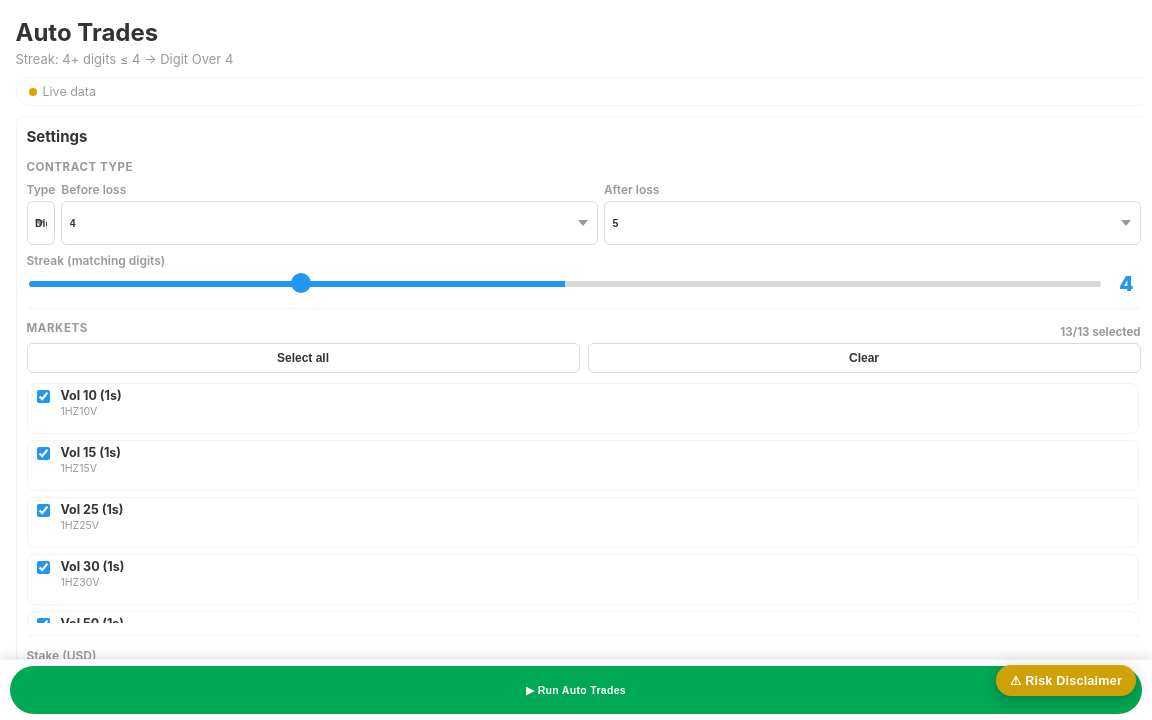
it: <AutoTrades /> › shows tick duration controls for Only Ups and Only Downs modes
Step 1. Select "Only Ups" in the 1st dropdown → x=41, y=223, box [26, 201, 55, 245]
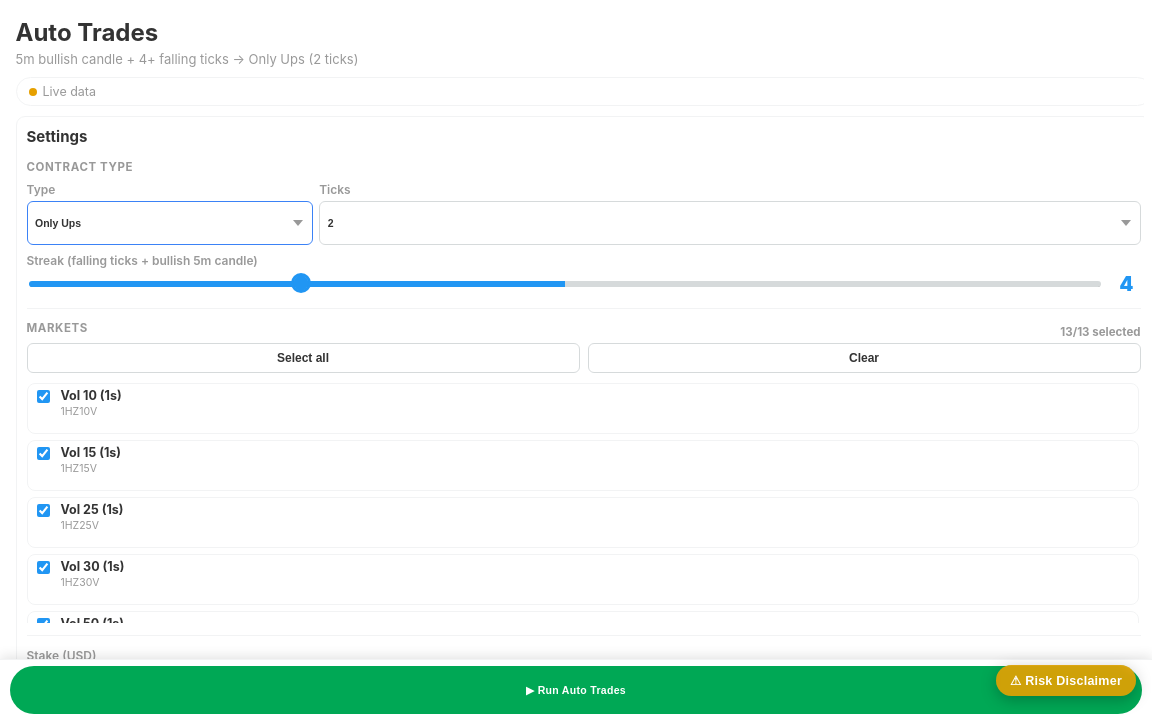
Check: the text "5m bullish candle + 4+ falling ticks → Only Ups (2 ticks)" is shown, box [16, 51, 358, 67]
Check: the text "Streak (falling ticks + bullish 5m candle)" is shown, box [26, 253, 258, 268]
Step 2. Select "3" in the 2nd dropdown → x=730, y=223, box [319, 201, 1140, 245]
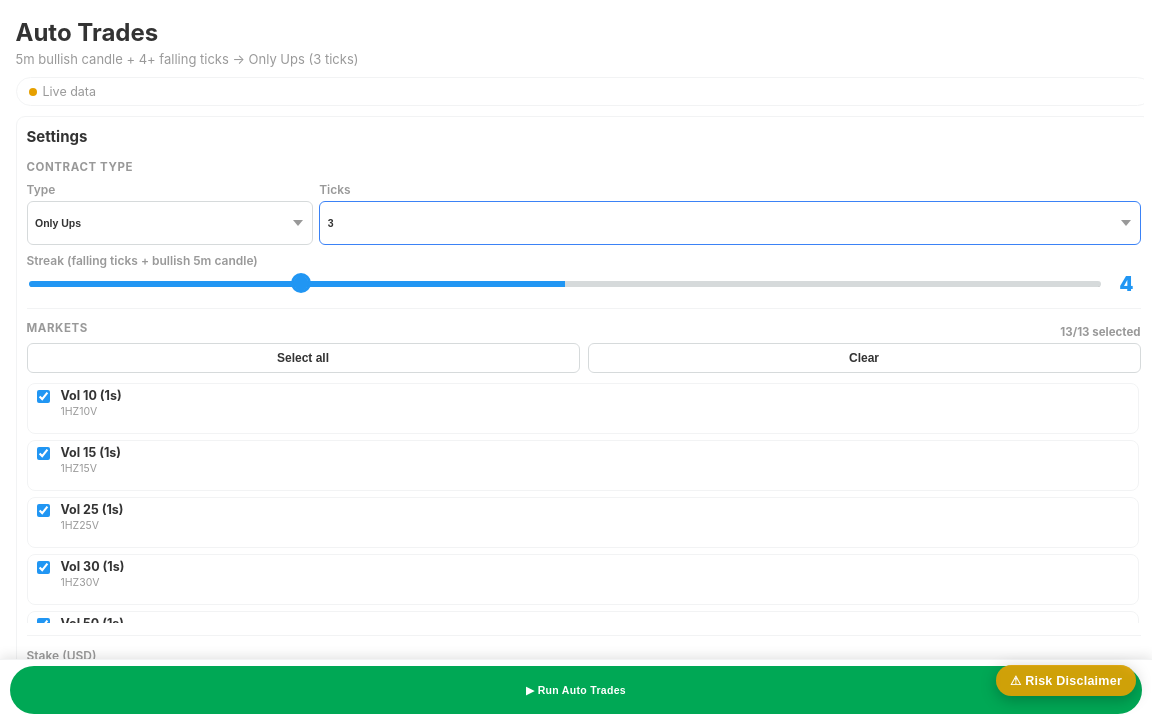
Check: the text "5m bullish candle + 4+ falling ticks → Only Ups (3 ticks)" is shown, box [16, 51, 358, 67]
Step 3. Select "Only Downs" in the 1st dropdown → x=170, y=223, box [26, 201, 313, 245]
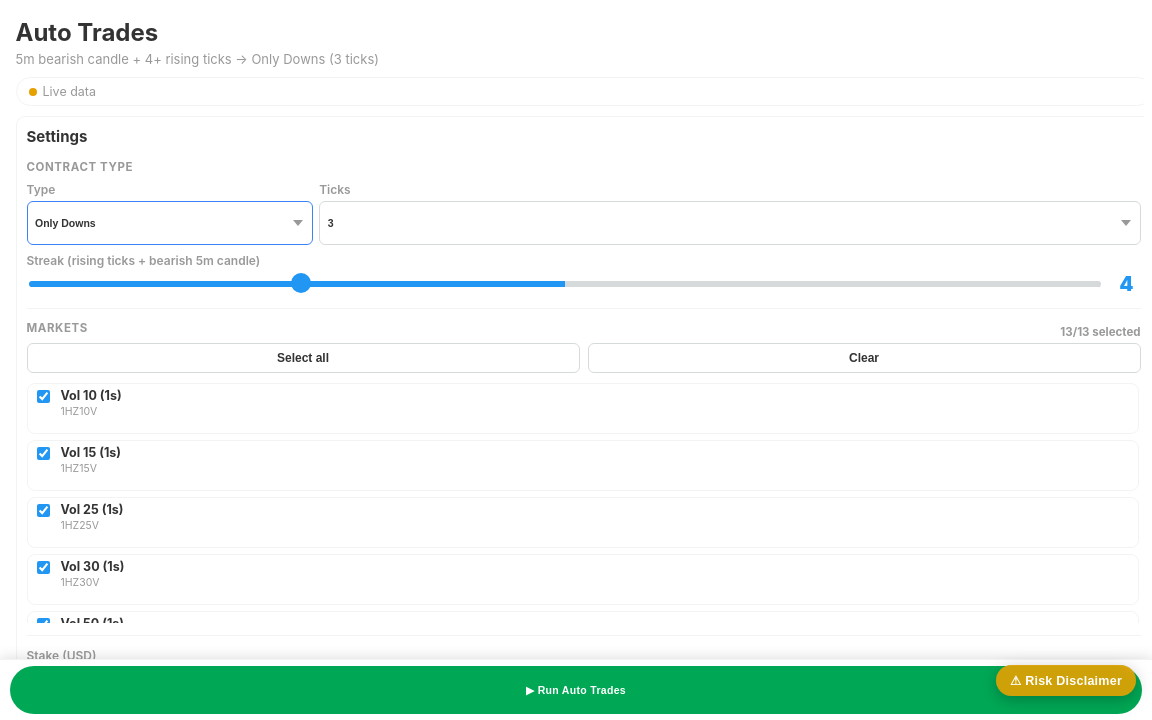
Check: the text "5m bearish candle + 4+ rising ticks → Only Downs (3 ticks)" is shown, box [16, 51, 379, 67]
Check: the text "Streak (rising ticks + bearish 5m candle)" is shown, box [26, 253, 260, 268]
